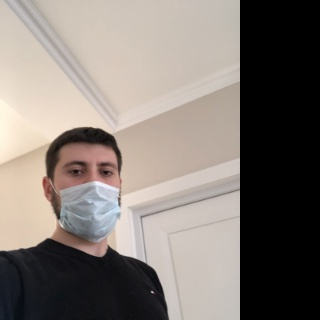with_mask: (55, 155, 121, 241)
